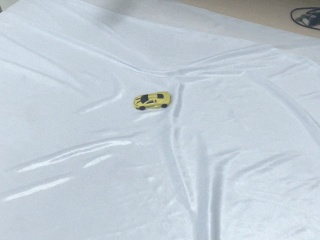toy_car: (133, 92, 171, 111)
